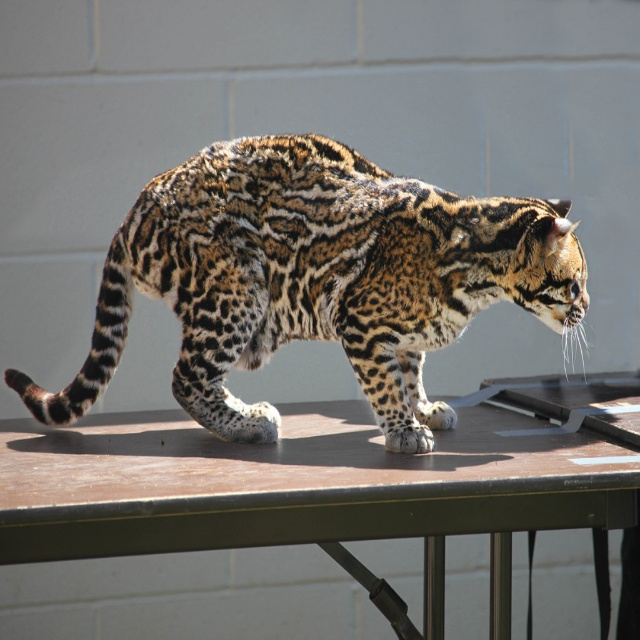Jaguar: (3, 130, 591, 456)
